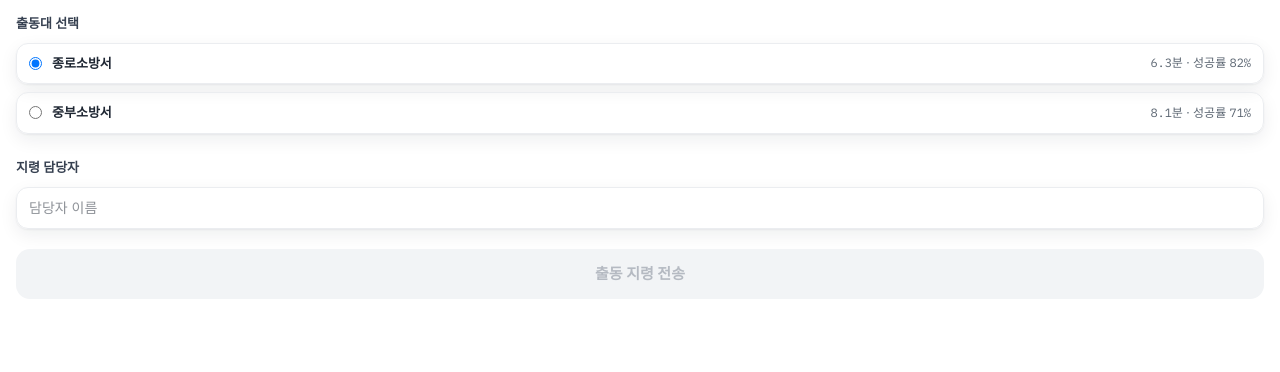
Scenario: DispatchOrderForm › 전송 버튼을 눌러도 확인 전에는 요청을 보내지 않는다
The image size is (1280, 372).
Type "김선우" into the field labelled "지령 담당자".
click(640, 208); type("김선우")  # box top-left (16, 186), bottom-right (1264, 228)
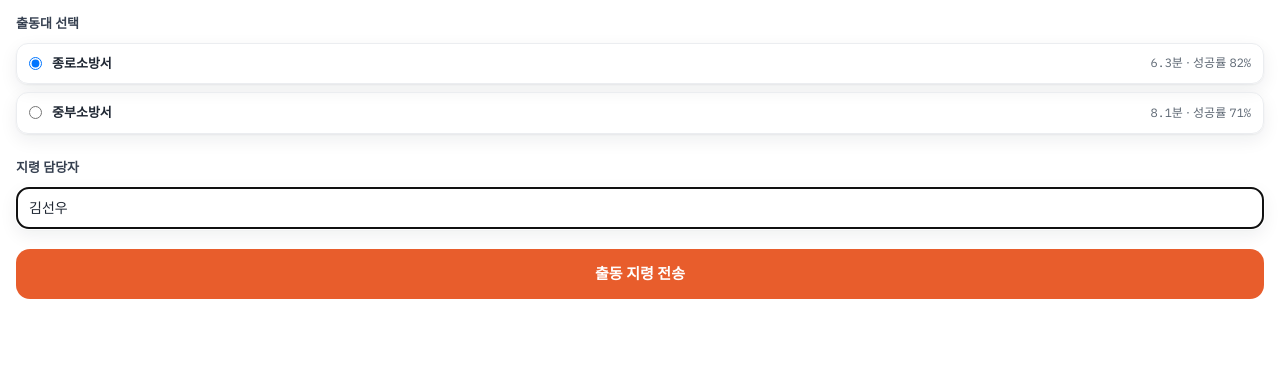
Click the button "출동 지령 전송".
click(640, 274)  # box top-left (16, 248), bottom-right (1264, 299)
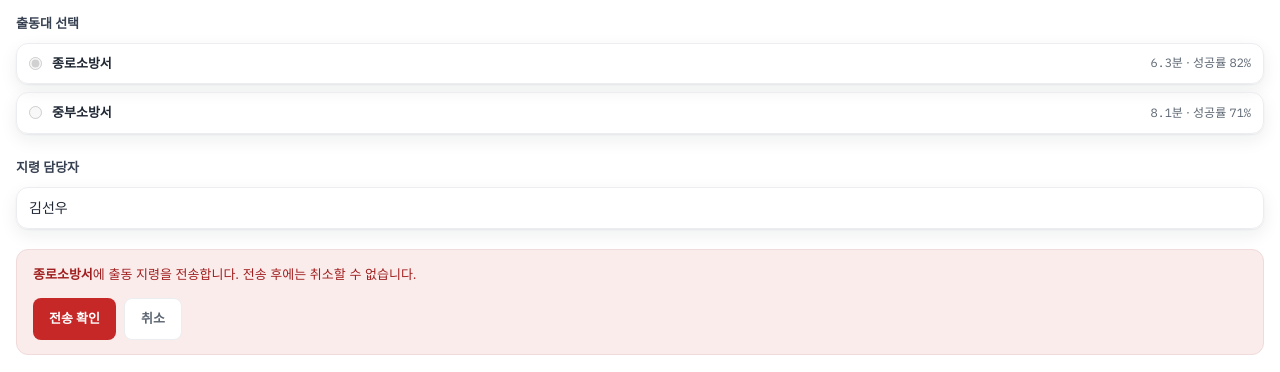
Check: the text "전송 후에는 취소할 수 없습니다" is shown, box top-left (93, 266), bottom-right (417, 282)
